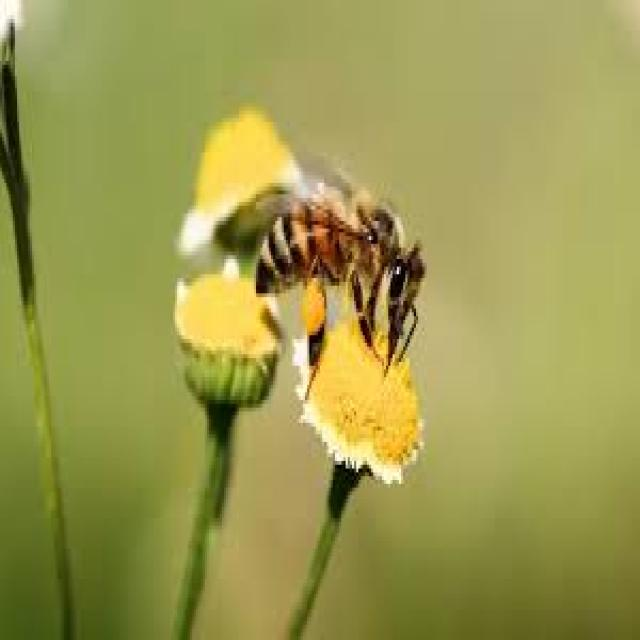Bees: (254, 181, 426, 399)
